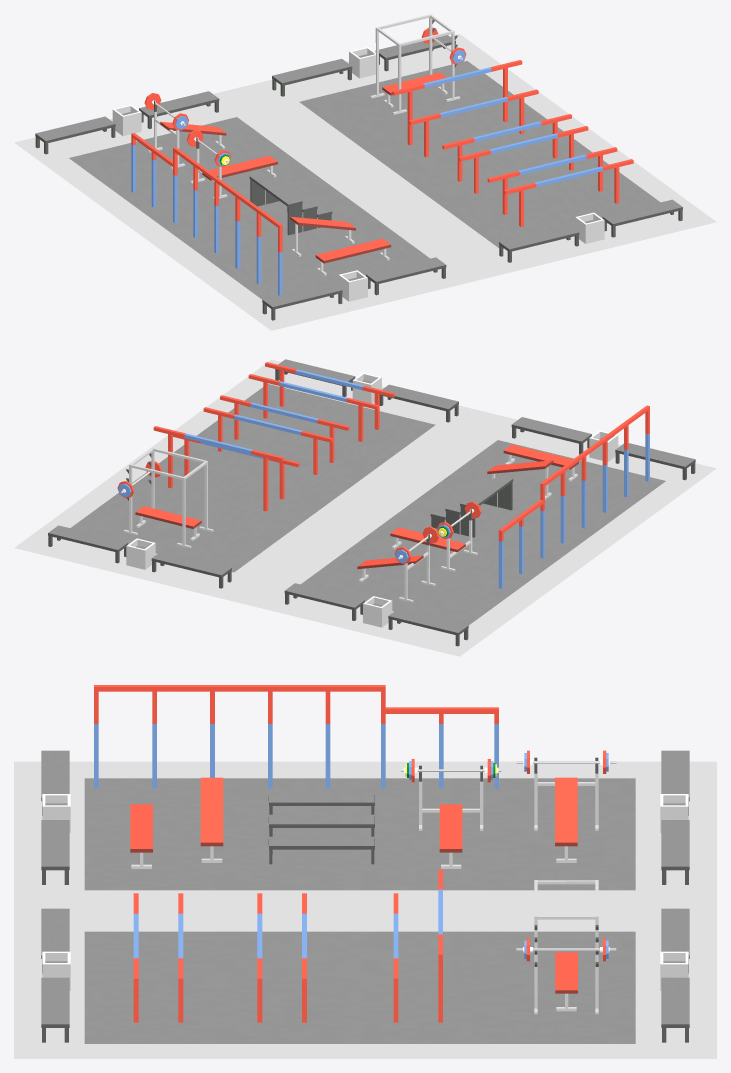
The model's file is landscape_entertainments.001.glb.
3 renders of one model, top to bottom at view 1: azimuth 30°, elevation 25°; view 2: azimuth 150°, elevation 25°; view 3: azimuth 270°, elevation 25°, orthographic. The views are drawn at different scales.
Visible parts, largest first — view 1: landscape_entertainments.001(Clone); view 2: landscape_entertainments.001(Clone); view 3: landscape_entertainments.001(Clone).
Boxes of the visible parts, x1=… form: landscape_entertainments.001(Clone): x1=14, y1=14, x2=716, y2=330; landscape_entertainments.001(Clone): x1=14, y1=359, x2=716, y2=656; landscape_entertainments.001(Clone): x1=14, y1=685, x2=716, y2=1058.
Size of the model in its own units: 16 by 2.63 by 16.
1 material, 1 textured.
